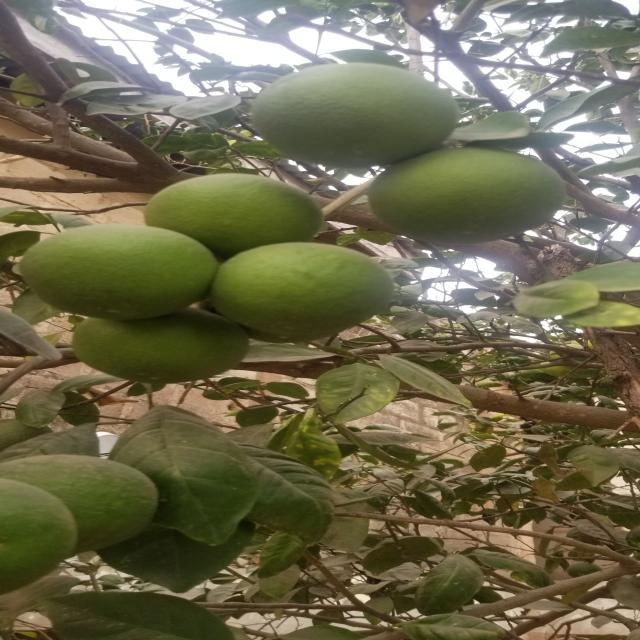agrume: (0, 435, 157, 606), (10, 216, 251, 325), (252, 60, 457, 175), (222, 224, 402, 346), (121, 170, 313, 254)
